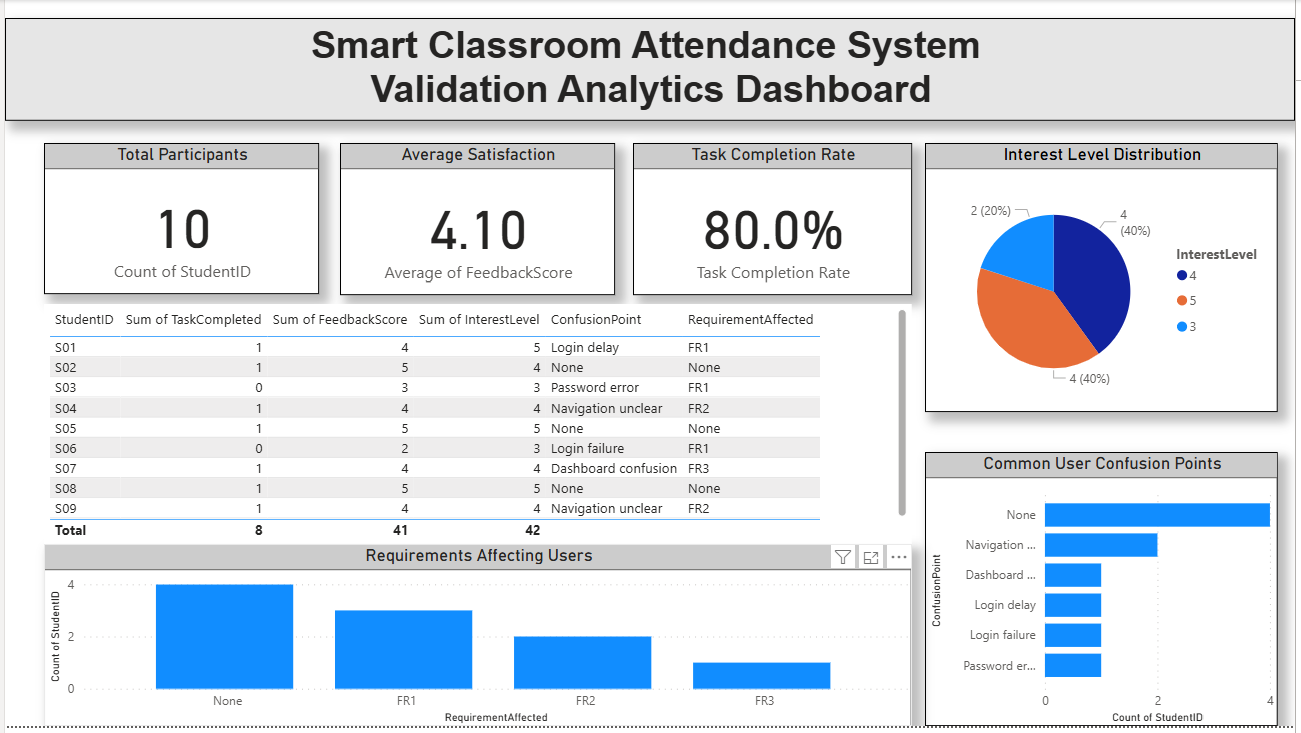

This screenshot's page, from the dashboard's own definition file:
{"tool":"powerbi","page":{"name":"Page 1","canvas":[1280,720],"ordinal":0},"visuals":[{"type":"textbox","box":[0,17.5,1280,102.1],"z":0},{"type":"card","title":"Total Participants","fields":{"Values":["CountNonNull(validation-results.StudentID)"]},"box":[38.7,141.9,272.9,149.8],"z":1},{"type":"card","title":"Average Satisfaction","fields":{"Values":["Avg(validation-results.FeedbackScore)"]},"box":[332.4,141.9,272.9,150.8],"z":2},{"type":"card","title":"Task Completion Rate","fields":{"Values":["validation-results.Task Completion Rate"]},"box":[623.1,141.9,276.8,150.8],"z":3},{"type":"pieChart","title":"Interest Level Distribution","fields":{"Category":["validation-results.InterestLevel"],"Y":["CountNonNull(validation-results.StudentID)"]},"box":[912.9,141.9,350.3,266.9],"z":4},{"type":"clusteredBarChart","title":"Common User Confusion Points","fields":{"Category":["validation-results.ConfusionPoint"],"Y":["CountNonNull(validation-results.StudentID)"]},"box":[912.9,448.5,350.3,271.9],"z":5},{"type":"clusteredColumnChart","title":"Requirements Affecting Users","fields":{"Category":["validation-results.RequirementAffected"],"Y":["CountNonNull(validation-results.StudentID)"]},"box":[38.7,539.8,861.3,180.6],"z":6},{"type":"tableEx","fields":{"Values":["validation-results.StudentID","Sum(validation-results.TaskCompleted)","Sum(validation-results.FeedbackScore)","Sum(validation-results.InterestLevel)","validation-results.ConfusionPoint","validation-results.RequirementAffected"]},"box":[38.7,301.6,861.3,238.1],"z":7}]}

Visuals, with their boxes in screenshot pixels (x1, y1, x2, y2), scaled from the page's 1280x720 canvas onto the 1301x733 screenshot:
textbox: bbox=(0, 18, 1300, 122)
"Total Participants" card: bbox=(39, 144, 317, 297)
"Average Satisfaction" card: bbox=(338, 144, 615, 298)
"Task Completion Rate" card: bbox=(633, 144, 915, 298)
"Interest Level Distribution" pieChart: bbox=(928, 144, 1284, 416)
"Common User Confusion Points" clusteredBarChart: bbox=(928, 457, 1284, 732)
"Requirements Affecting Users" clusteredColumnChart: bbox=(39, 550, 915, 732)
tableEx - validation-results.StudentID x Sum(validation-results.TaskCompleted): bbox=(39, 307, 915, 549)
